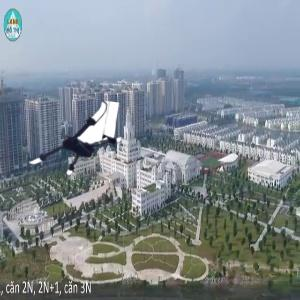drone: (29, 98, 122, 191)
